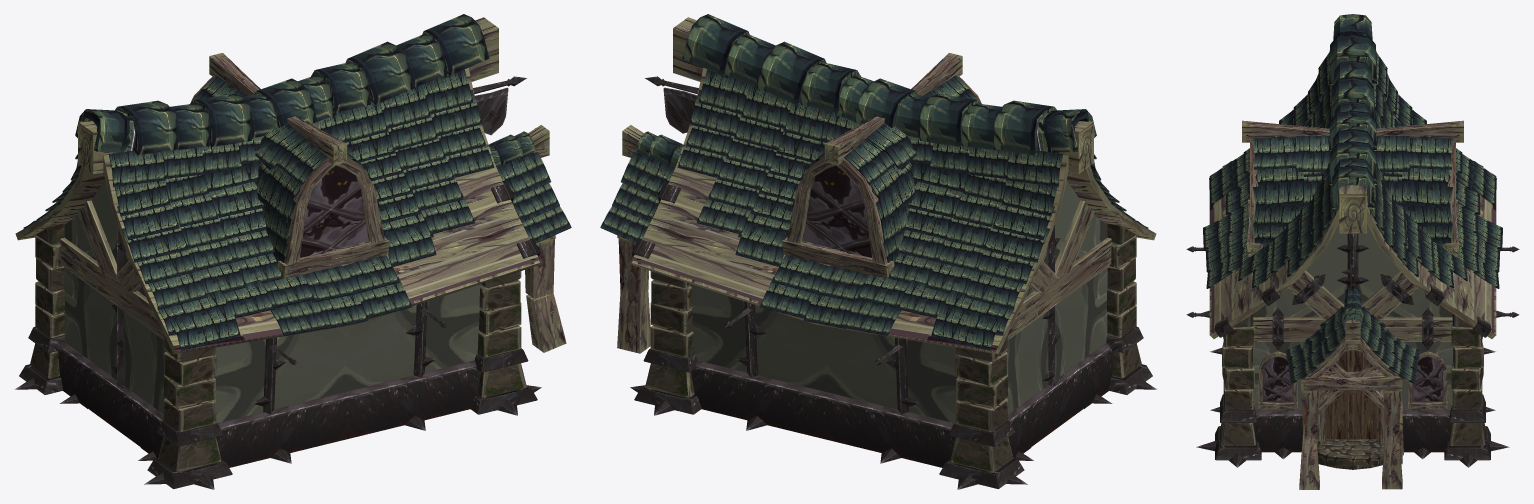
Rendered from cartoon_house.fbx.
The picture shows the model from 3 angles, left to right: view 1: azimuth 30°, elevation 25°; view 2: azimuth 150°, elevation 25°; view 3: azimuth 270°, elevation 25°; orthographic projection. The views are drawn at different scales.
Parts seen in each view (by area): view 1: CartoonHouse_01; view 2: CartoonHouse_01; view 3: CartoonHouse_01.
Boxes of the visible parts, x1,y1,x2,y2 form: CartoonHouse_01: (15,14,571,489); CartoonHouse_01: (600,14,1156,489); CartoonHouse_01: (1186,14,1519,489).
Size of the model in its own units: 2955 by 1962 by 2052.
